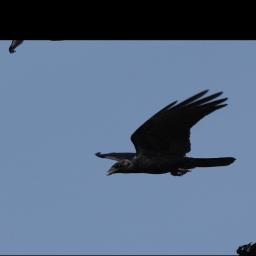Crow: (75, 83, 256, 206)
